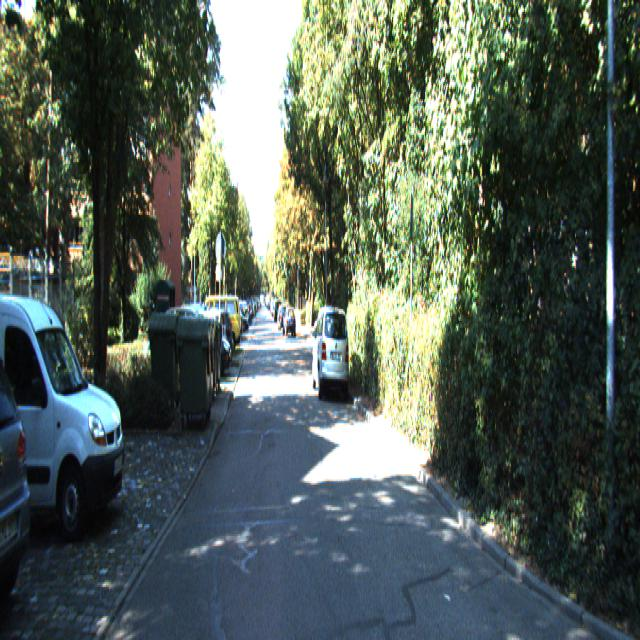Car: (0, 283, 130, 540), (311, 303, 350, 402), (201, 293, 241, 352), (283, 307, 296, 338)
